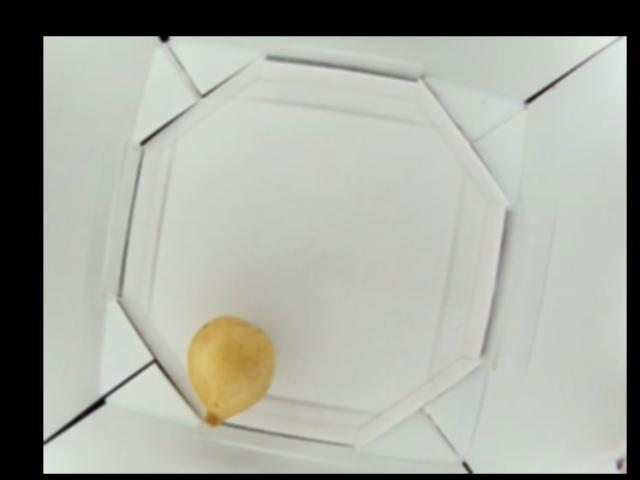Potato: (183, 314, 273, 427)
